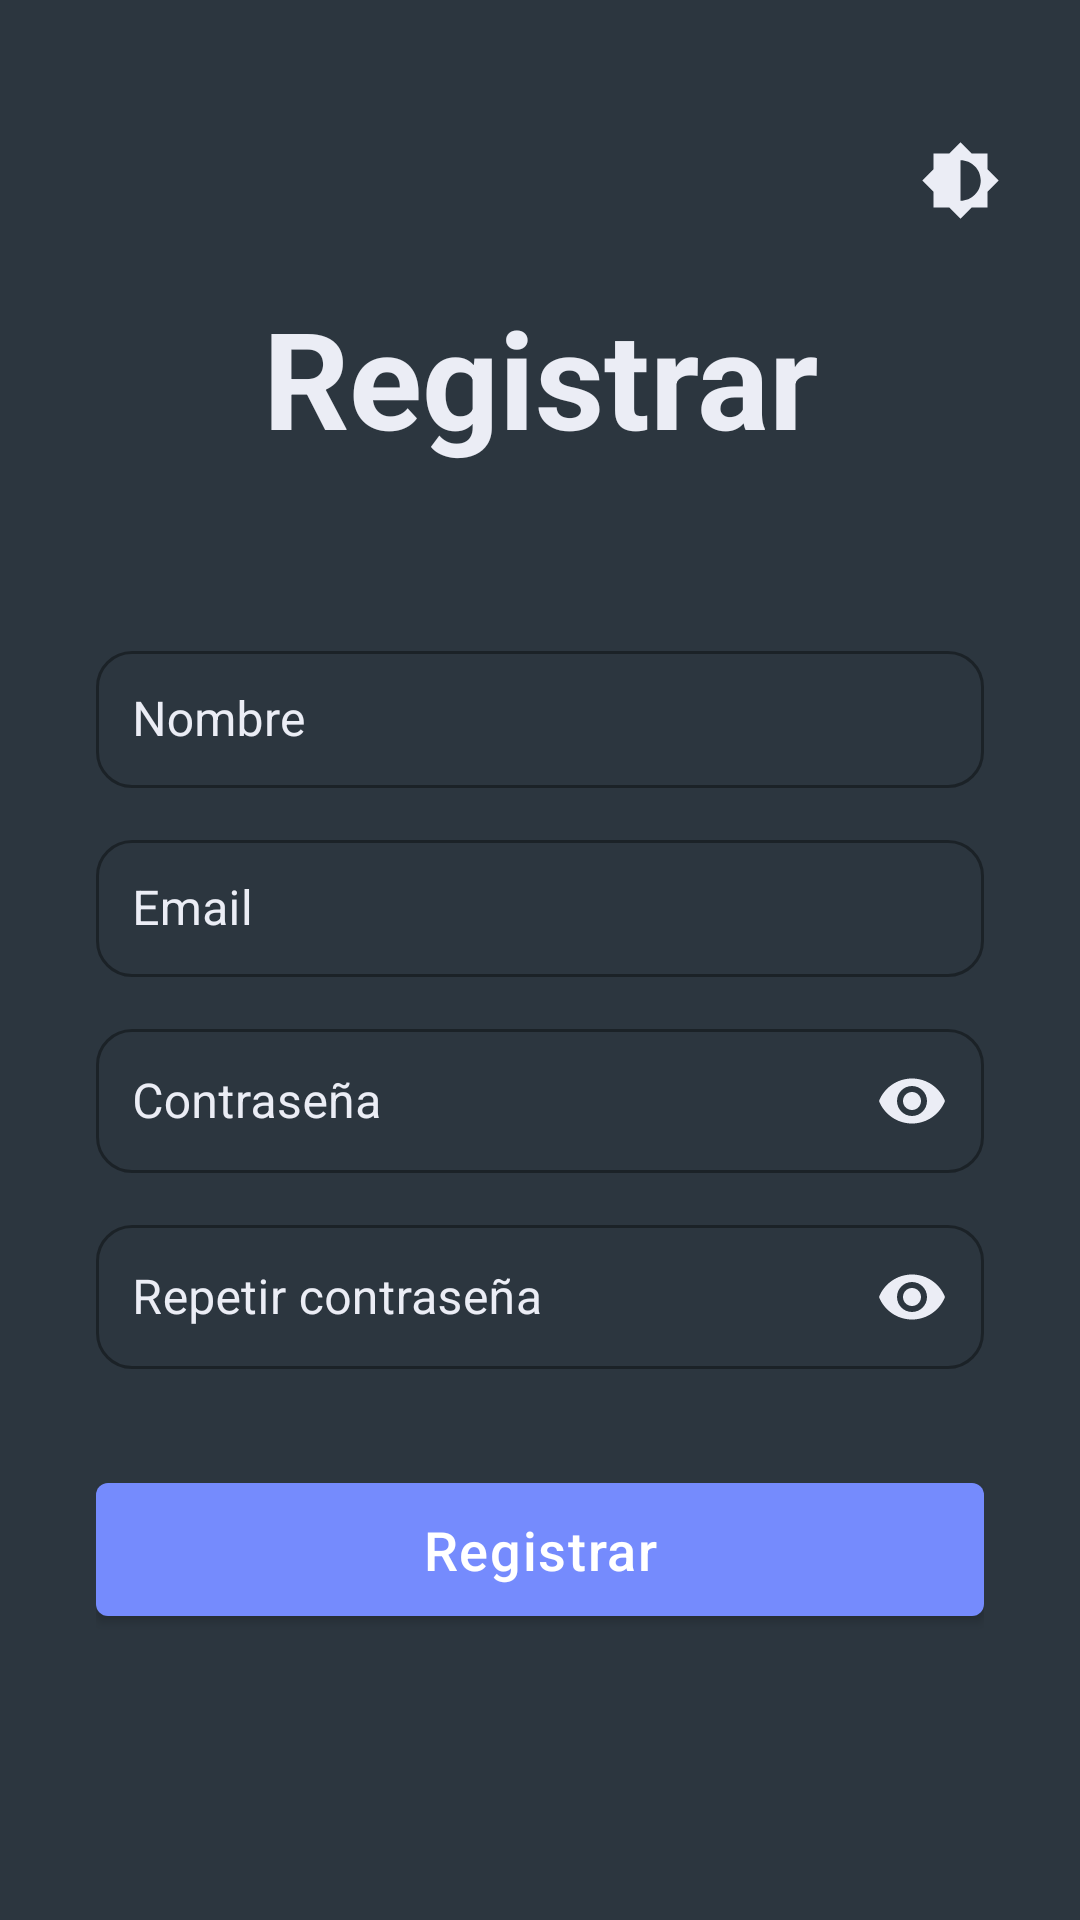

Icons on this 1080x1920 Android screen, each with its box as (x1, y1, x2, y2):
Cambiar tema: (922, 142, 999, 219)
